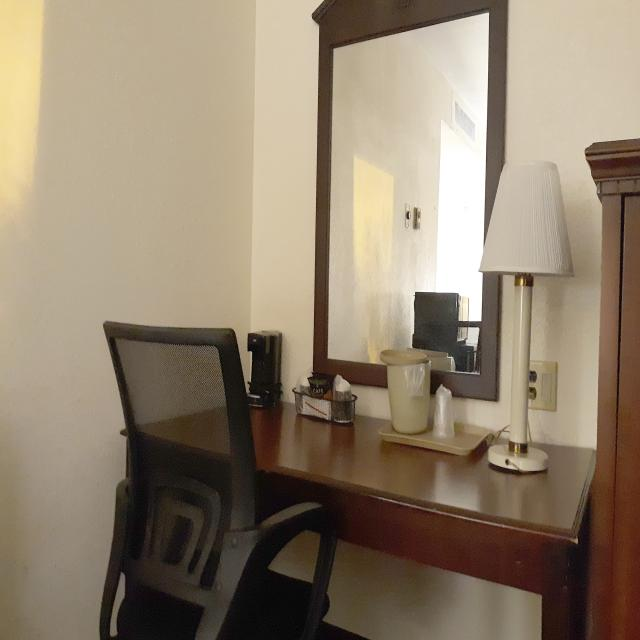Chair: (101, 316, 333, 640)
